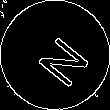N_NW: (23, 23, 87, 87)
